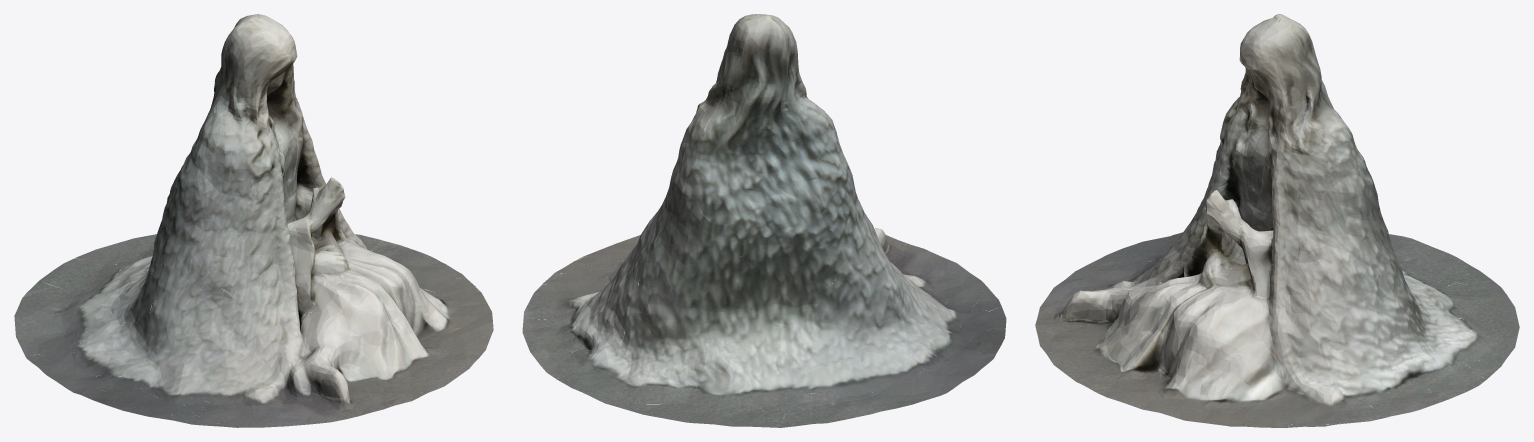
The model's file is Ranni Baked.glb.
3 views of the same model, side by side, from view 1: azimuth 30°, elevation 25°; view 2: azimuth 150°, elevation 25°; view 3: azimuth 270°, elevation 25° (orthographic).
Parts seen in each view (by area): view 1: Mesh_0; view 2: Mesh_0; view 3: Mesh_0.
Part boxes in pixels (bbox=[...]): Mesh_0: bbox=[14, 14, 493, 427]; Mesh_0: bbox=[522, 14, 1006, 427]; Mesh_0: bbox=[1035, 14, 1519, 427].
Size of the model in its own units: 0.9045 by 0.6455 by 0.9046.
Materials: 1 (1 with a texture image).
